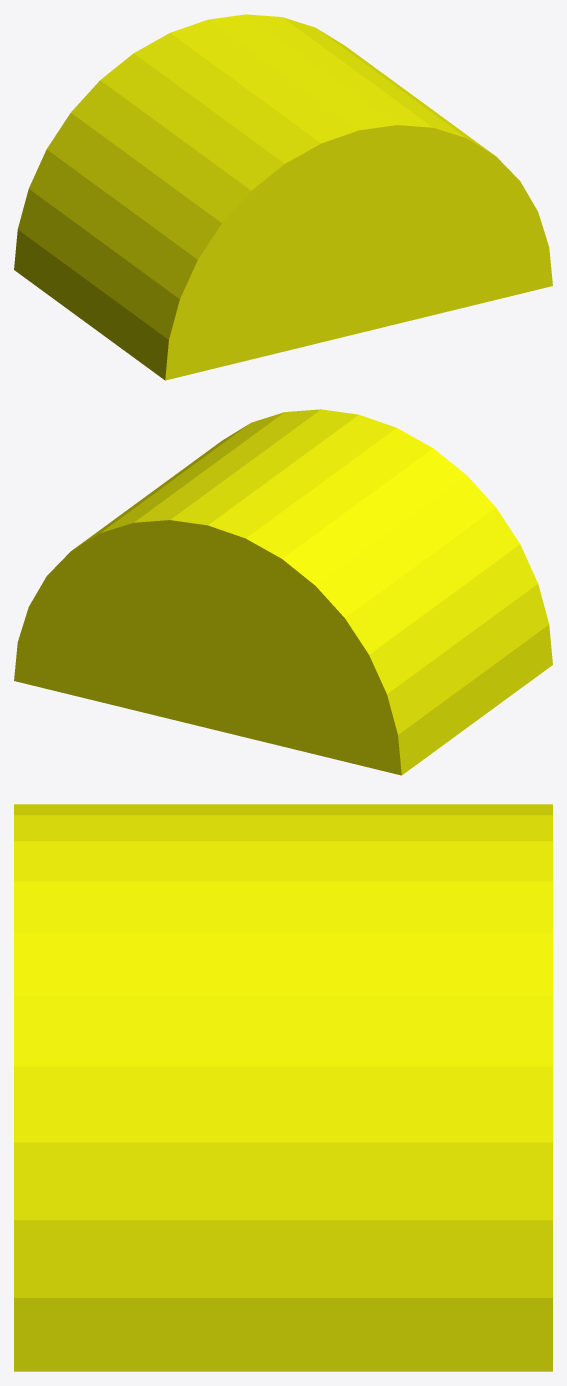
The model's file is lvl 4 1per2 Lingkaran K.fbx.
3 views of the same model, one above another, from view 1: azimuth 30°, elevation 25°; view 2: azimuth 150°, elevation 25°; view 3: azimuth 270°, elevation 25° (orthographic). The views are drawn at different scales.
Parts seen in each view (by area): view 1: Cylinder.019; view 2: Cylinder.019; view 3: Cylinder.019.
Boxes of the visible parts, x1=… form: Cylinder.019: x1=14, y1=14, x2=552, y2=380; Cylinder.019: x1=14, y1=409, x2=552, y2=775; Cylinder.019: x1=14, y1=804, x2=552, y2=1371.
Size of the model in its own units: 294 by 147 by 199.
